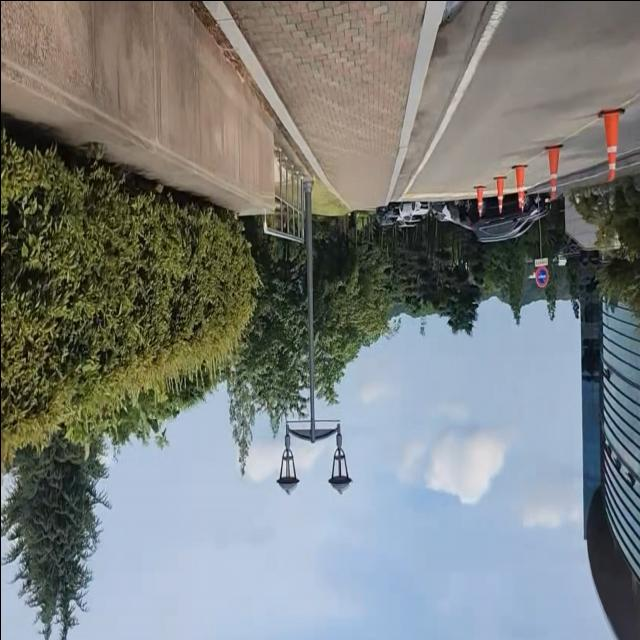obstacle: (458, 189, 556, 248), (597, 95, 626, 193), (538, 136, 565, 200)
road: (396, 0, 640, 195)
sidewalk: (200, 0, 444, 205)
